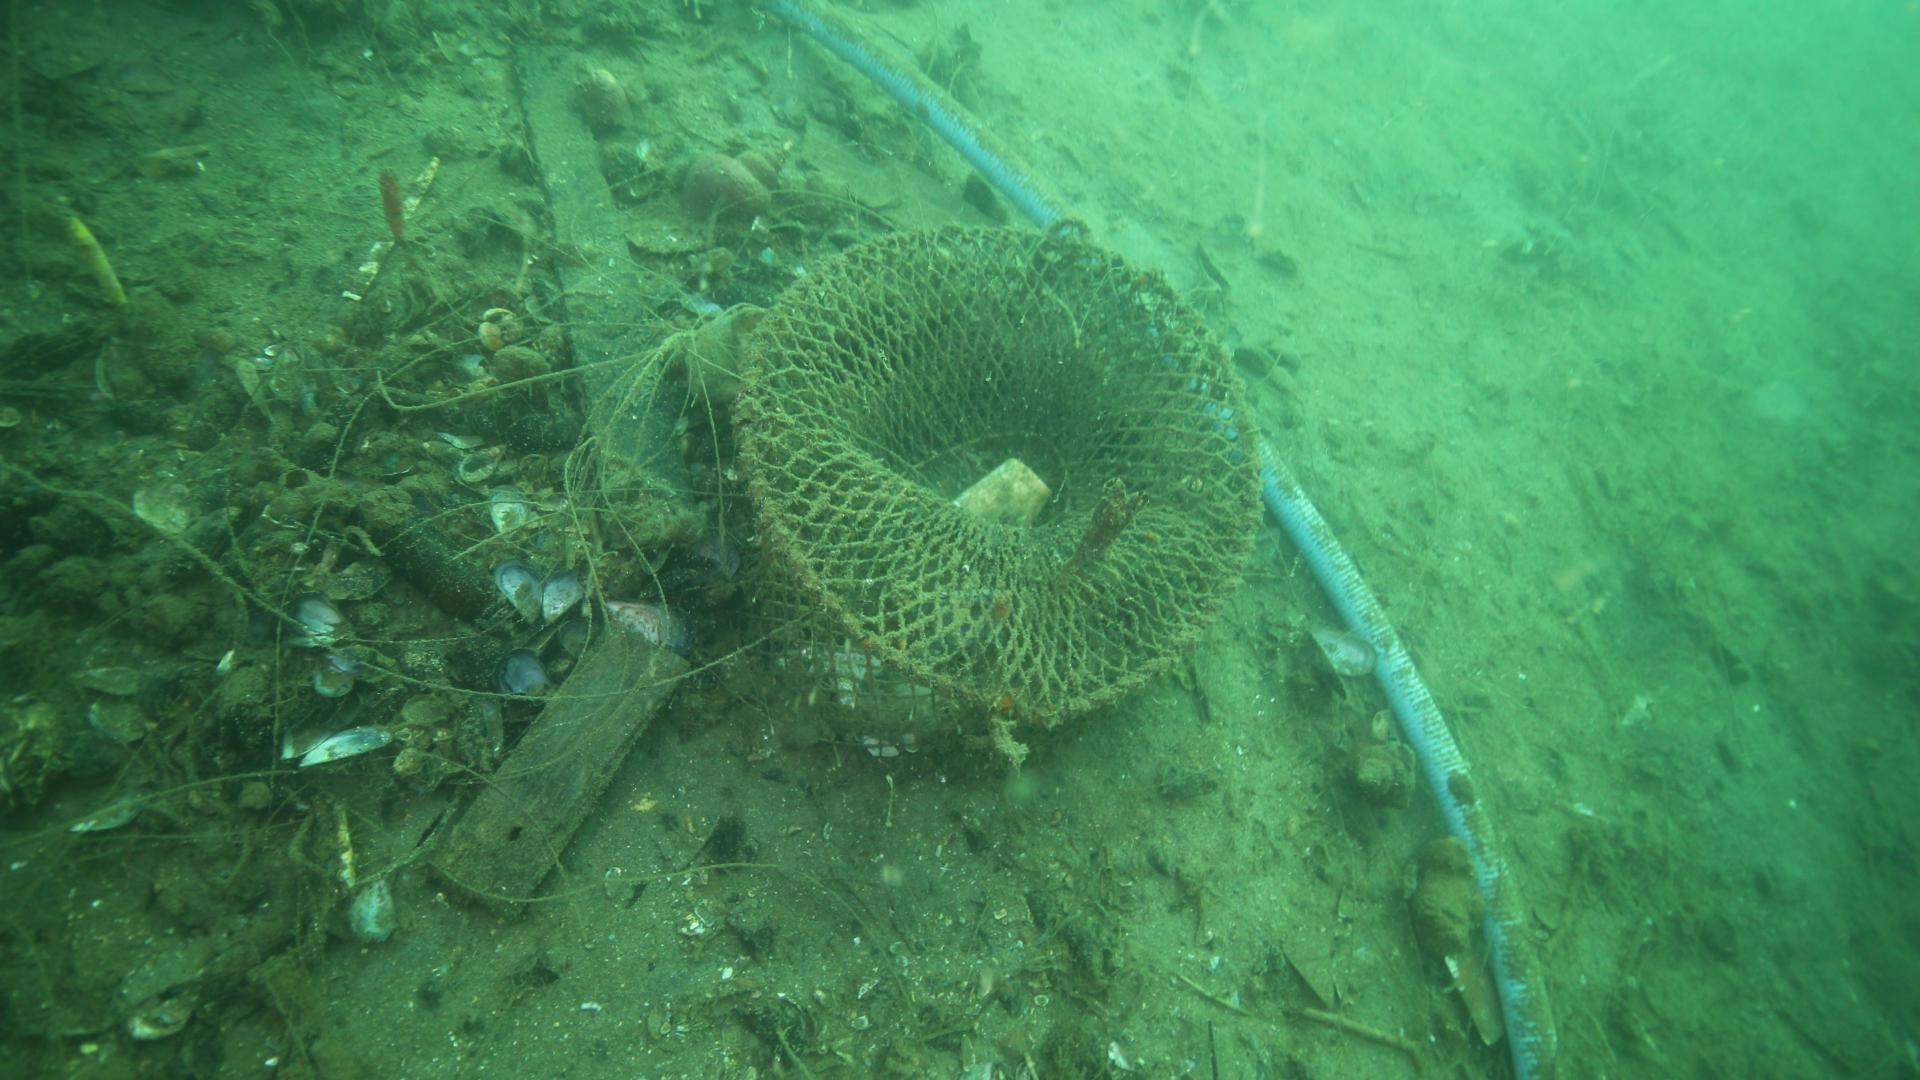circular fish trap: (715, 218, 1273, 770)
wood: (505, 18, 700, 543), (426, 615, 690, 920)
